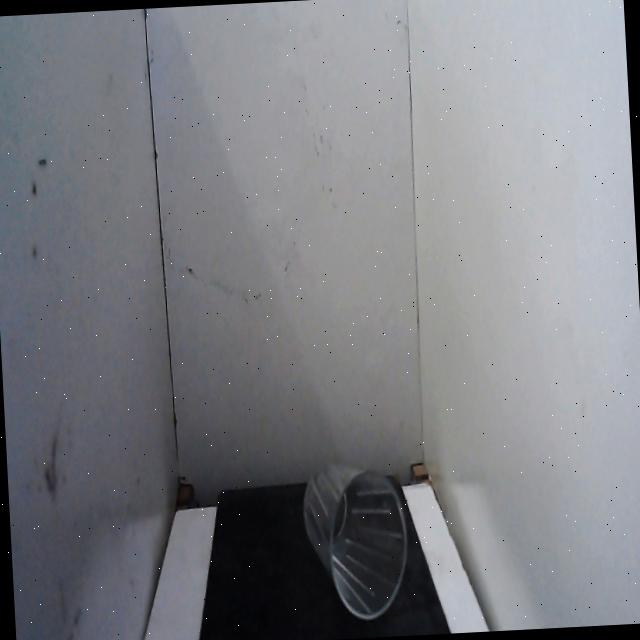vidro: (293, 440, 417, 632)
